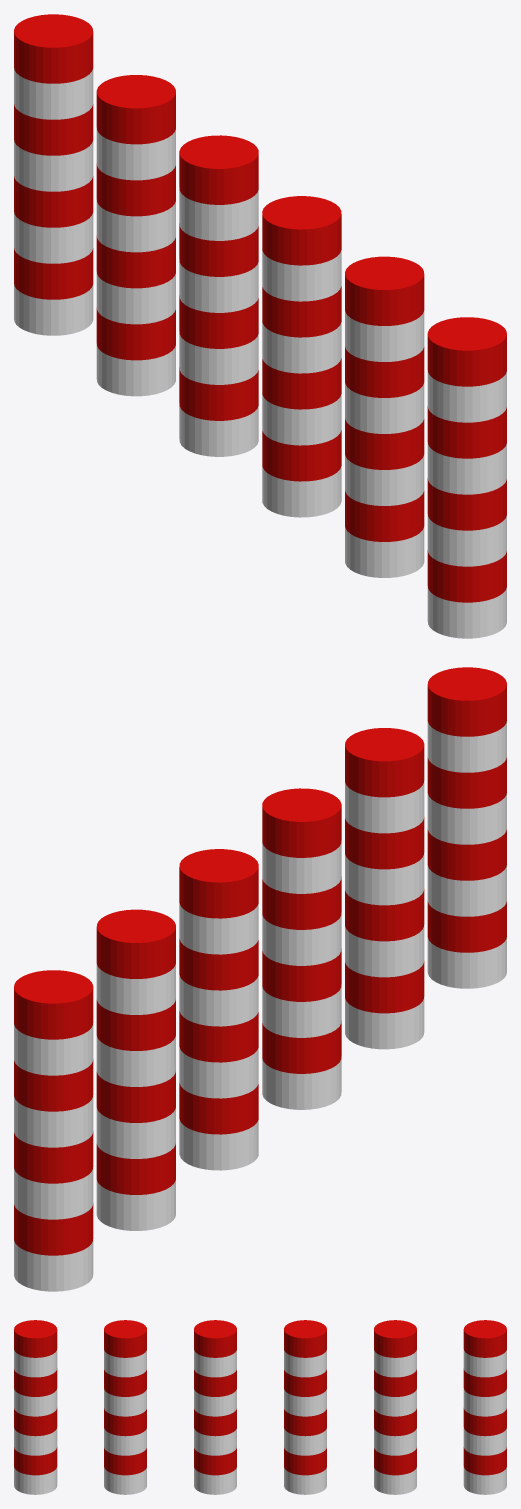
Rendered from roadside pillars.fbx.
The picture shows the model from 3 angles, top to bottom: view 1: azimuth 30°, elevation 25°; view 2: azimuth 150°, elevation 25°; view 3: azimuth 270°, elevation 25°; orthographic projection. The views are drawn at different scales.
Parts seen in each view (by area): view 1: Cylinder.026, Cylinder.018, Cylinder.034, Cylinder.050, Cylinder.042, Cylinder.058, Cylinder.031, Cylinder.032, Cylinder.033, Cylinder.051, Cylinder.052, Cylinder.053 (+36 smaller); view 2: Cylinder.018, Cylinder.026, Cylinder.058, Cylinder.042, Cylinder.034, Cylinder.050, Cylinder.055, Cylinder.056, Cylinder.057, Cylinder.027, Cylinder.028, Cylinder.029 (+36 smaller); view 3: Cylinder.034, Cylinder.058, Cylinder.018, Cylinder.026, Cylinder.042, Cylinder.050, Cylinder.028, Cylinder.052, Cylinder.033, Cylinder.057, Cylinder.027, Cylinder.051 (+36 smaller).
Boxes of the visible parts, left/top/right/bottom form: Cylinder.026: left=179, top=135, right=258, bottom=204; Cylinder.018: left=262, top=196, right=341, bottom=265; Cylinder.034: left=427, top=317, right=506, bottom=386; Cylinder.050: left=96, top=75, right=175, bottom=144; Cylinder.042: left=345, top=256, right=424, bottom=325; Cylinder.058: left=14, top=14, right=93, bottom=83; Cylinder.031: left=427, top=442, right=506, bottom=494; Cylinder.032: left=427, top=406, right=506, bottom=458; Cylinder.033: left=427, top=370, right=506, bottom=422; Cylinder.051: left=14, top=284, right=93, bottom=335; Cylinder.052: left=14, top=248, right=93, bottom=299; Cylinder.053: left=14, top=212, right=93, bottom=263; Cylinder.018: left=262, top=788, right=341, bottom=857; Cylinder.026: left=179, top=849, right=258, bottom=918; Cylinder.058: left=14, top=970, right=93, bottom=1039; Cylinder.042: left=345, top=728, right=424, bottom=797; Cylinder.034: left=427, top=667, right=506, bottom=736; Cylinder.050: left=96, top=909, right=175, bottom=978; Cylinder.055: left=14, top=1095, right=93, bottom=1147; Cylinder.056: left=14, top=1059, right=93, bottom=1111; Cylinder.057: left=14, top=1023, right=93, bottom=1075; Cylinder.027: left=427, top=937, right=506, bottom=988; Cylinder.028: left=427, top=901, right=506, bottom=952; Cylinder.029: left=427, top=865, right=506, bottom=916; Cylinder.034: left=14, top=1320, right=57, bottom=1357; Cylinder.058: left=463, top=1320, right=506, bottom=1357; Cylinder.018: left=194, top=1320, right=236, bottom=1357; Cylinder.026: left=284, top=1320, right=326, bottom=1357; Cylinder.042: left=104, top=1320, right=146, bottom=1357; Cylinder.050: left=374, top=1320, right=416, bottom=1357; Cylinder.028: left=14, top=1447, right=57, bottom=1475; Cylinder.052: left=463, top=1447, right=506, bottom=1475; Cylinder.033: left=14, top=1349, right=57, bottom=1377; Cylinder.057: left=463, top=1349, right=506, bottom=1377; Cylinder.027: left=14, top=1466, right=57, bottom=1494; Cylinder.051: left=463, top=1466, right=506, bottom=1494.
Bounding box in the file's own units: 48 × 192 × 548.
